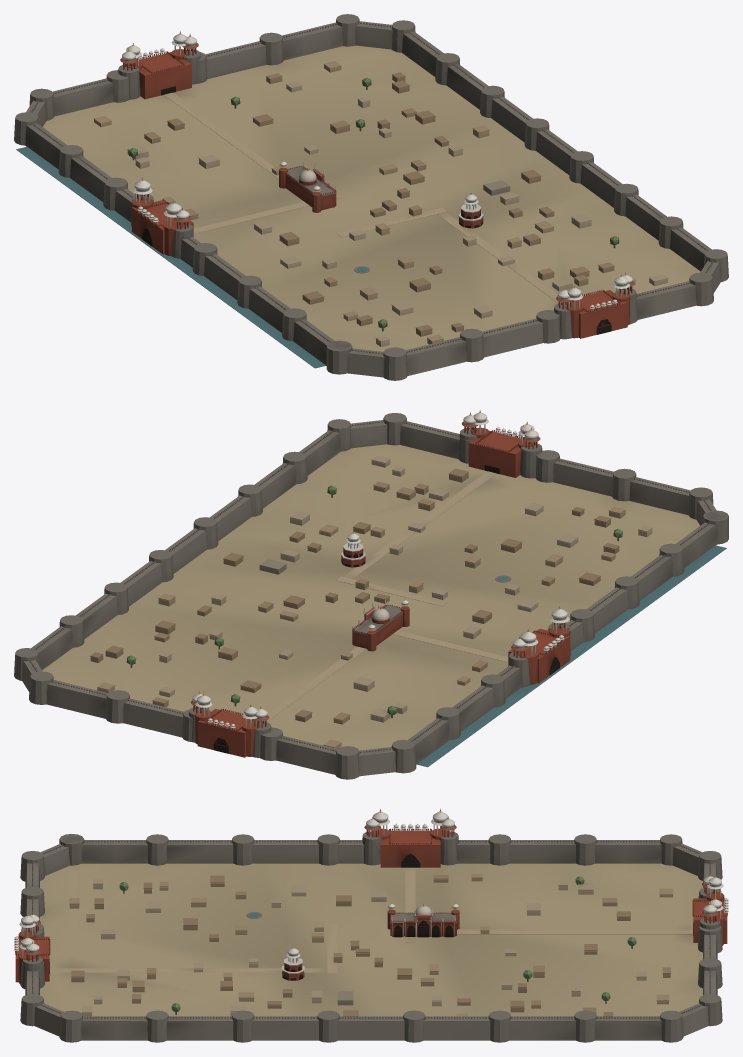
Rendered from purana-qila-village.glb.
The picture shows the model from 3 angles, top to bottom: view 1: azimuth 30°, elevation 25°; view 2: azimuth 150°, elevation 25°; view 3: azimuth 270°, elevation 25°; orthographic projection. The views are drawn at different scales.
Visible parts, largest first — view 1: p0_walls, p1_gates, p3_village, p2_mosque and library; view 2: p0_walls, p1_gates, p3_village, p2_mosque and library; view 3: p0_walls, p1_gates, p3_village, p2_mosque and library.
Boxes of the visible parts, <box> form: p0_walls: <box>14,14,728,380</box>; p1_gates: <box>118,31,637,339</box>; p3_village: <box>93,61,668,347</box>; p2_mosque and library: <box>279,160,510,273</box>; p0_walls: <box>14,413,728,779</box>; p1_gates: <box>189,410,570,757</box>; p3_village: <box>90,456,652,748</box>; p2_mosque and library: <box>259,531,511,651</box>; p0_walls: <box>20,834,722,1042</box>; p1_gates: <box>14,809,728,989</box>; p3_village: <box>69,874,673,1016</box>; p2_mosque and library: <box>246,903,459,1005</box>.
Size of the model in its own units: 344 by 43.15 by 549.
